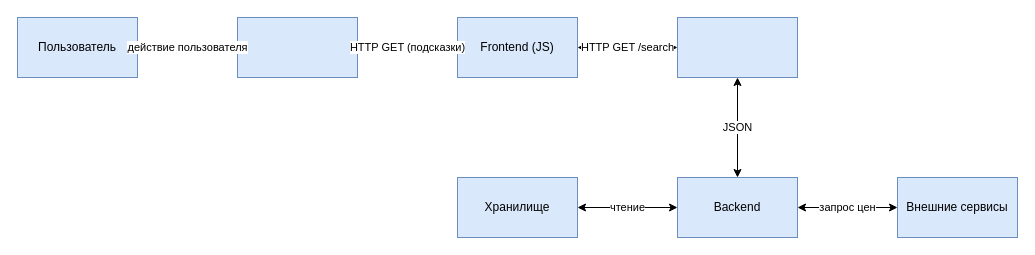
Image size: 1035x255. Some labels were removed from this diagram. The shapes that lost their labels are listed below. From the top down, each one's centre as x and y in pixels, then its label:
(x=297, y=47): Браузер
(x=737, y=47): API
